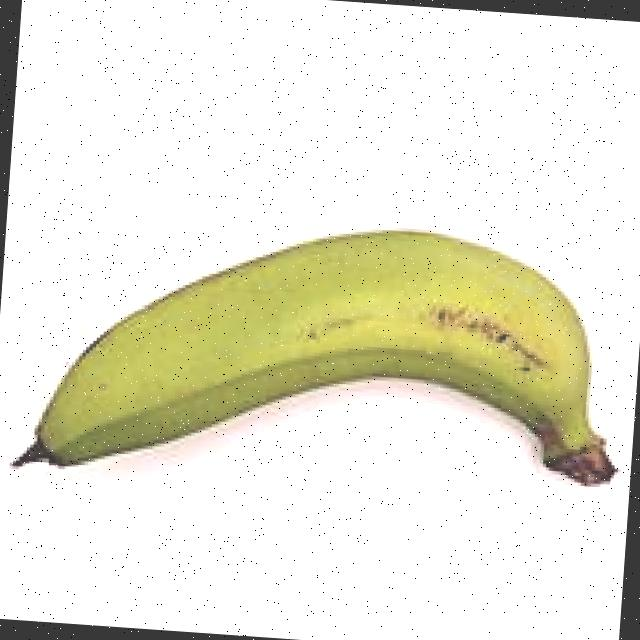Raw: (0, 164, 640, 577)
